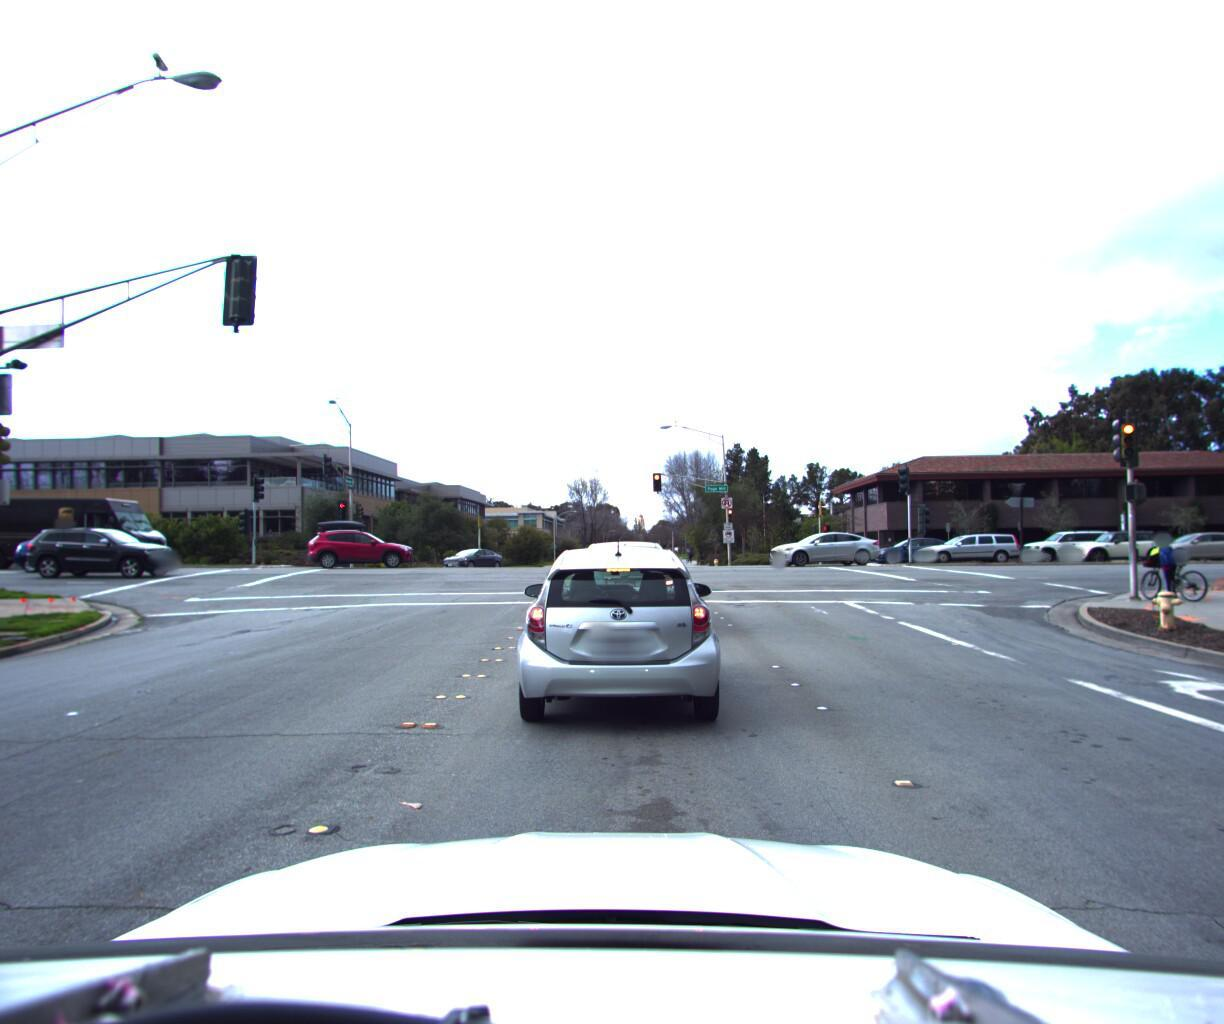bicycle: (1120, 525, 1217, 597)
car: (502, 535, 750, 740), (560, 536, 701, 645), (17, 520, 192, 577), (3, 526, 144, 574), (759, 520, 884, 568), (306, 521, 420, 570), (1054, 522, 1165, 561), (1012, 522, 1127, 559), (906, 524, 1019, 561), (858, 530, 970, 565), (1127, 524, 1224, 557), (1139, 522, 1224, 558), (434, 541, 508, 569)
truck: (0, 490, 192, 575)
